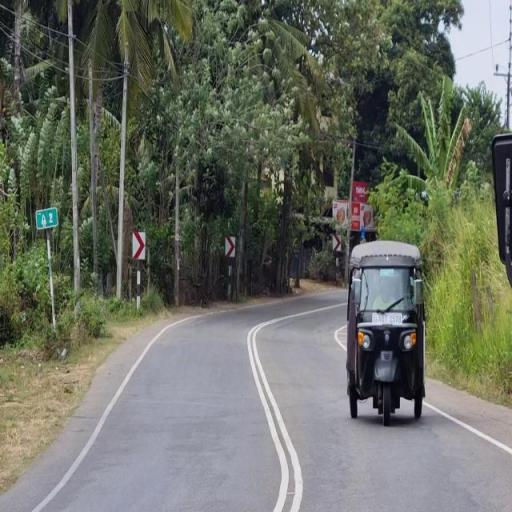double_white_line: (246, 317, 306, 510)
